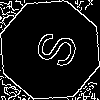S: (25, 25, 80, 71)
